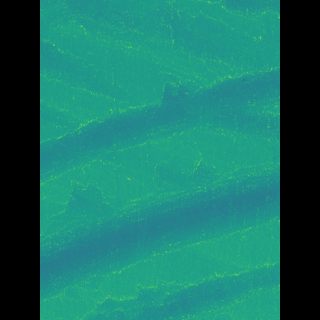Loch: (69, 154, 248, 307), (70, 60, 250, 189), (102, 253, 250, 320)
